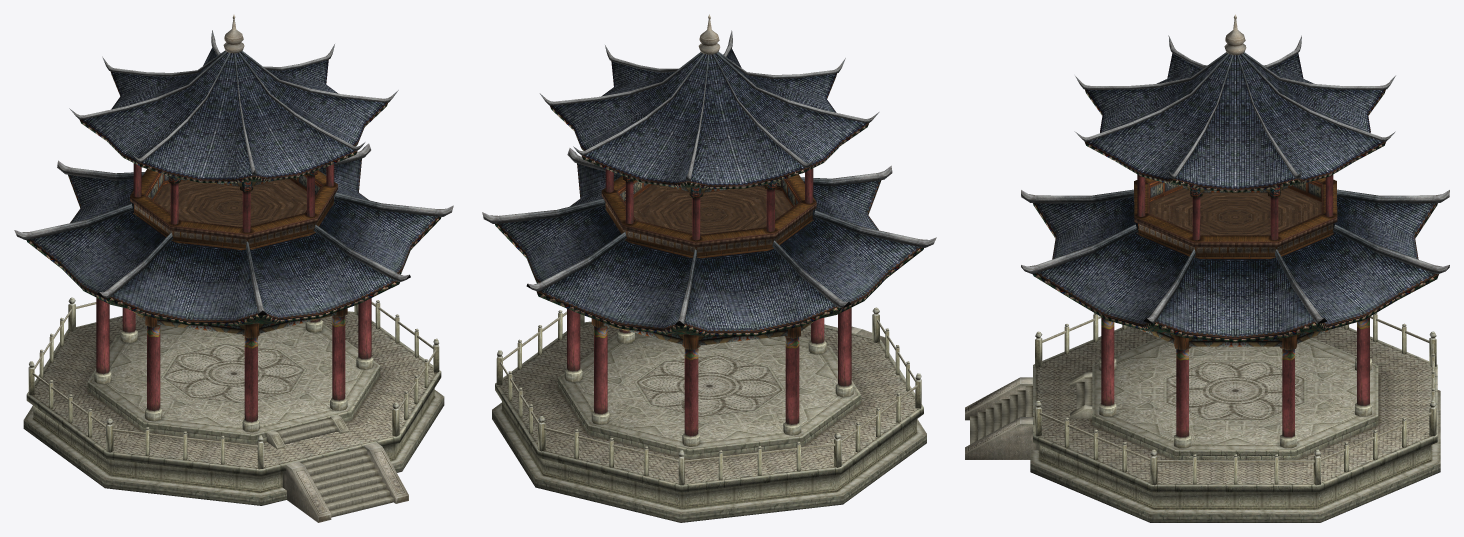
Rendered from milgyo_pavilion.fbx.
3 views of the same model, side by side, from view 1: azimuth 30°, elevation 25°; view 2: azimuth 150°, elevation 25°; view 3: azimuth 270°, elevation 25° (orthographic). The views are drawn at different scales.
Visible parts, largest first — view 1: m; view 2: m; view 3: m.
Boxes of the visible parts, x1,y1,x2,y2 form: m: (14,14,453,522); m: (482,14,936,522); m: (965,14,1449,522).
Size of the model in its own units: 18.34 by 19.94 by 20.73.
